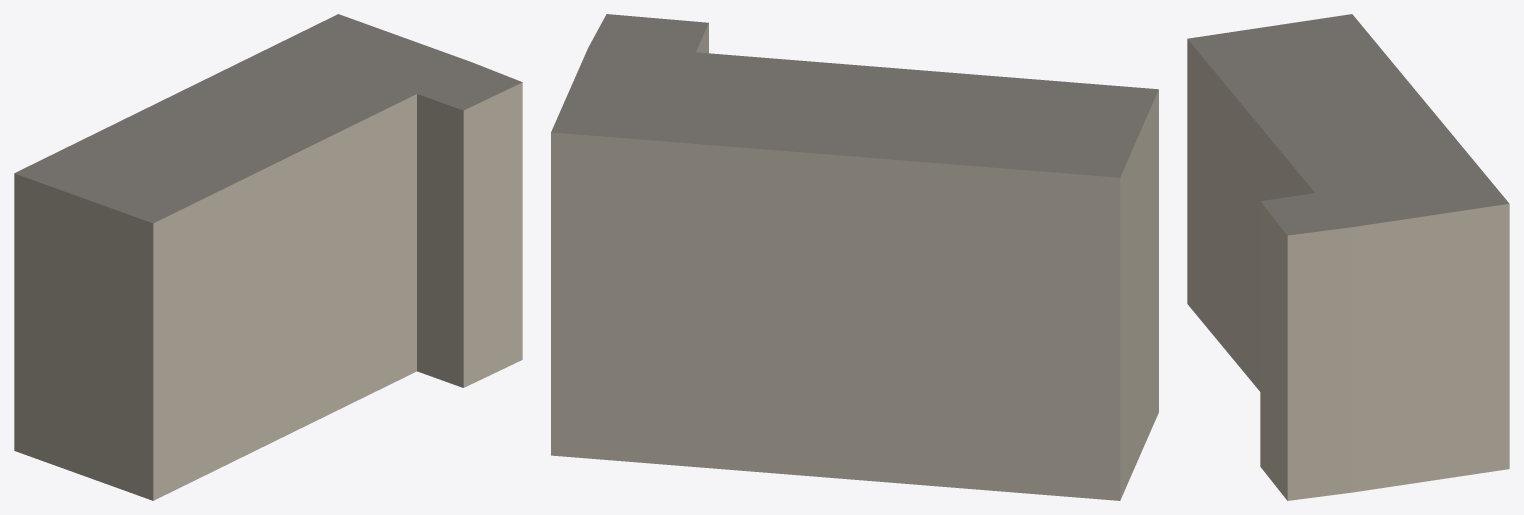
3 renders of one model, left to right at view 1: azimuth 30°, elevation 25°; view 2: azimuth 150°, elevation 25°; view 3: azimuth 270°, elevation 25°, orthographic. The views are drawn at different scales.
Parts seen in each view (by area): view 1: HP-w1198563494; view 2: HP-w1198563494; view 3: HP-w1198563494.
Part boxes in pixels (x1,y1,x2,y2): HP-w1198563494: [14, 14, 522, 500]; HP-w1198563494: [551, 14, 1158, 500]; HP-w1198563494: [1187, 14, 1509, 500].
Bounding box in the file's own units: 32.23 × 18 × 19.8.
